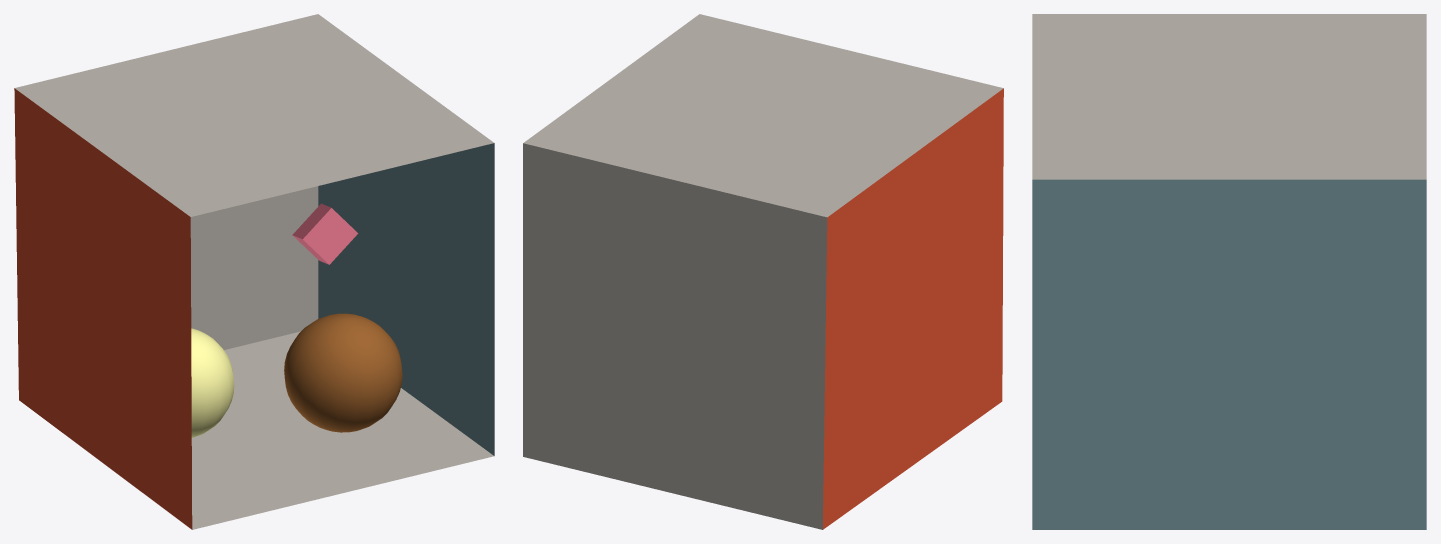
The picture shows the model from 3 angles, left to right: view 1: azimuth 30°, elevation 25°; view 2: azimuth 150°, elevation 25°; view 3: azimuth 270°, elevation 25°; orthographic projection. The views are drawn at different scales.
Parts seen in each view (by area): view 1: leftWall, ceiling, rightWall, floor, backWall, pSphere2, pSphere1, pCube1; view 2: backWall, leftWall, ceiling; view 3: rightWall, ceiling.
Part boxes in pixels (<box>): leftWall: <box>14,88,192,529</box>; ceiling: <box>15,14,493,216</box>; rightWall: <box>318,143,494,455</box>; floor: <box>191,331,493,529</box>; backWall: <box>190,186,318,349</box>; pSphere2: <box>284,313,402,432</box>; pSphere1: <box>191,328,234,437</box>; pCube1: <box>292,203,358,264</box>; backWall: <box>523,143,827,529</box>; leftWall: <box>823,88,1003,529</box>; ceiling: <box>523,14,1003,217</box>; rightWall: <box>1032,179,1426,529</box>; ceiling: <box>1032,14,1426,179</box>.
Bounding box in the file's own units: 2.02 × 2 × 2.03.
